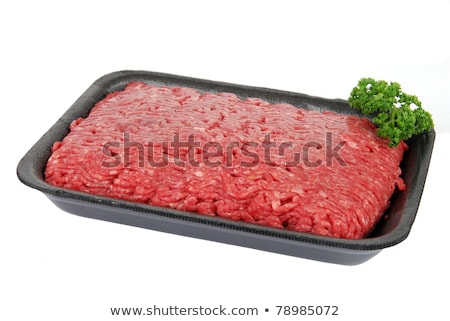ground_beef: (76, 79, 395, 244)
